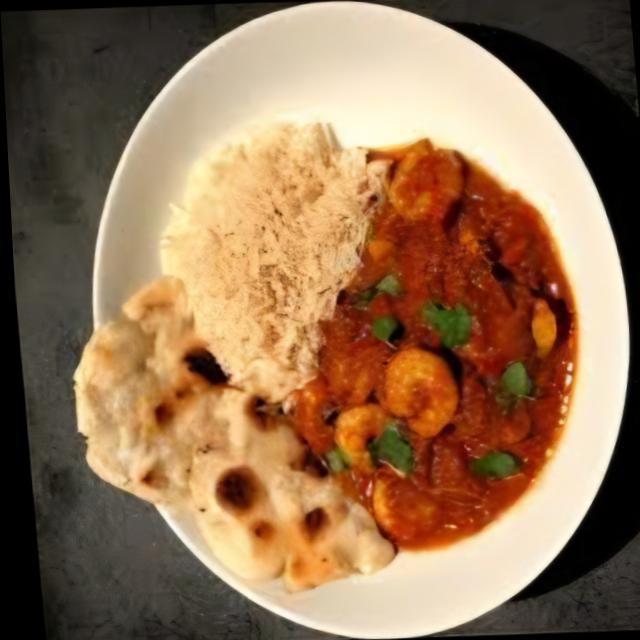CURRY: (283, 144, 575, 549)
PAROTTA: (71, 274, 399, 593)
RICE: (163, 120, 378, 398)
